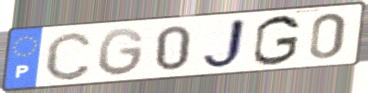0: (306, 11, 349, 62), (153, 24, 196, 73)
C: (42, 30, 95, 83)
G: (251, 14, 303, 68), (97, 26, 147, 79)
J: (199, 16, 249, 71)
